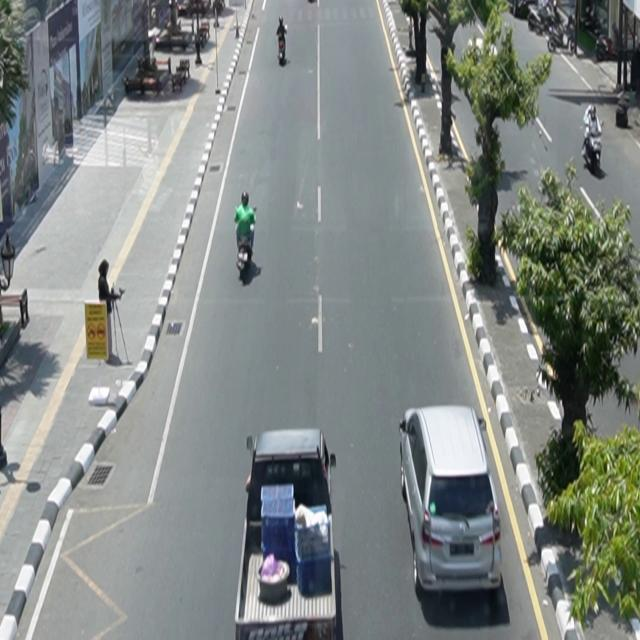car: (235, 429, 344, 640), (400, 405, 504, 598)
